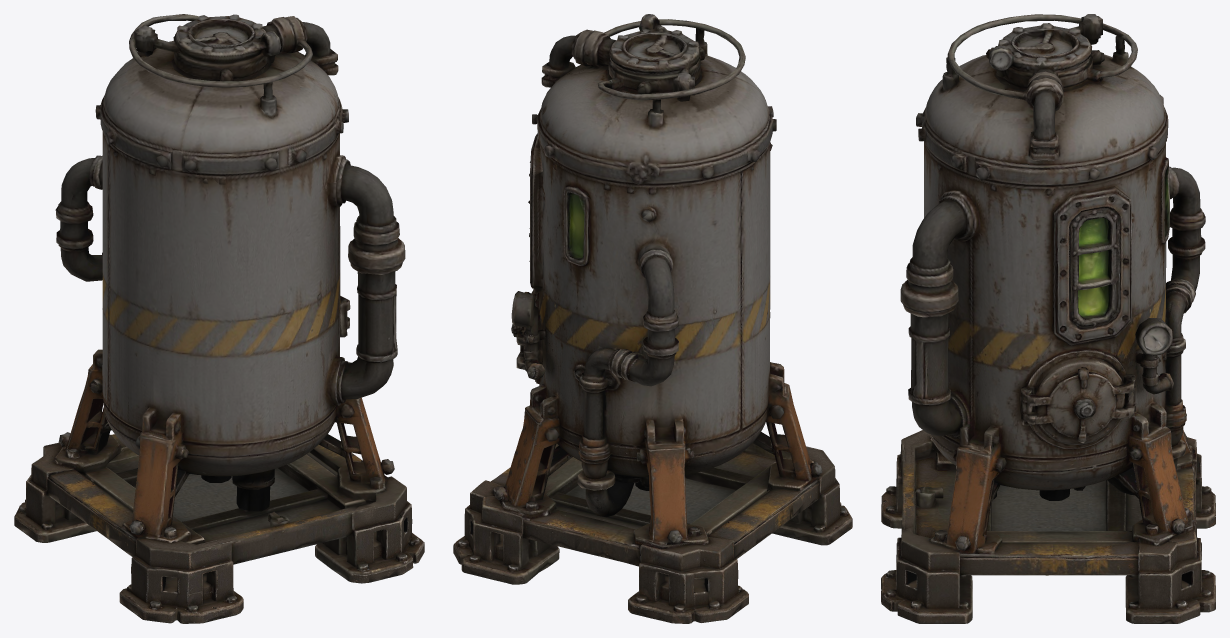
File: tripo_convert_570dbe34-6008-4e09-a466-b47f53a2bee5.fbx
The picture shows the model from 3 angles, left to right: view 1: azimuth 30°, elevation 25°; view 2: azimuth 150°, elevation 25°; view 3: azimuth 270°, elevation 25°; orthographic projection. The views are drawn at different scales.
Visible parts, largest first — view 1: tripo_node_570dbe34; view 2: tripo_node_570dbe34; view 3: tripo_node_570dbe34.
Boxes of the visible parts, x1,y1,x2,y2 form: tripo_node_570dbe34: (14,14,424,623); tripo_node_570dbe34: (453,14,852,623); tripo_node_570dbe34: (881,14,1215,623).
Size of the model in its own units: 0.5604 by 0.9788 by 0.5699.
1 material, 1 textured.
